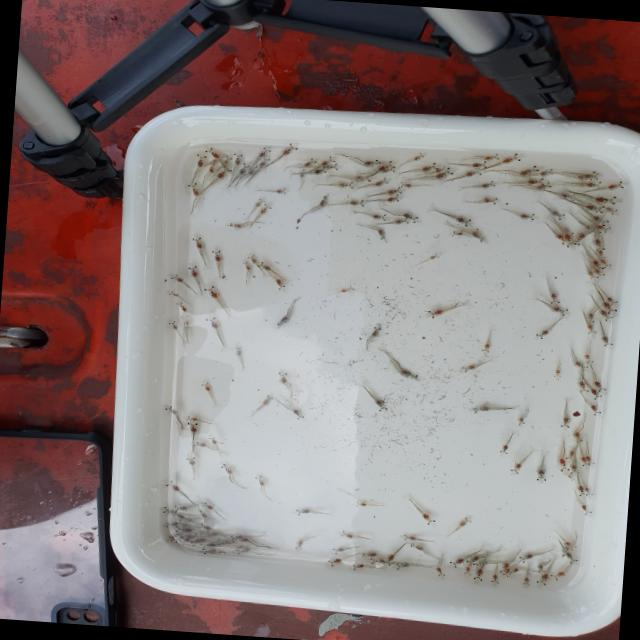babyshrimp: (398, 367, 419, 381), (590, 195, 618, 205), (162, 480, 183, 493), (433, 167, 454, 180), (451, 214, 472, 227), (589, 214, 610, 227), (571, 231, 588, 247), (203, 285, 221, 300), (214, 165, 232, 180), (516, 166, 539, 177), (582, 202, 605, 213), (375, 160, 396, 172), (579, 180, 604, 190), (280, 143, 299, 156), (533, 328, 552, 341), (550, 303, 569, 316), (501, 153, 522, 164), (422, 308, 445, 318), (517, 552, 536, 564), (187, 182, 202, 197), (563, 550, 579, 564), (205, 316, 221, 330), (471, 229, 487, 243), (600, 301, 617, 314), (448, 556, 466, 568), (203, 147, 221, 159), (534, 572, 549, 586), (549, 289, 563, 304), (550, 570, 569, 581), (374, 398, 390, 411), (420, 512, 436, 525), (256, 146, 272, 159), (548, 209, 566, 220), (580, 502, 594, 516), (258, 202, 273, 215), (510, 461, 523, 476), (402, 211, 418, 223), (536, 465, 546, 484), (455, 364, 476, 373), (408, 541, 425, 552), (320, 155, 337, 166), (382, 553, 396, 566), (186, 265, 199, 279), (195, 153, 208, 167), (589, 386, 602, 400), (276, 314, 291, 326), (367, 212, 387, 221), (558, 457, 570, 472), (553, 233, 568, 245), (606, 180, 624, 190), (470, 405, 492, 413), (499, 441, 510, 457), (572, 357, 588, 368), (463, 168, 482, 177), (533, 181, 552, 190), (472, 568, 485, 581), (192, 236, 205, 249), (237, 162, 250, 175), (576, 483, 589, 496), (589, 402, 602, 415), (219, 462, 233, 474), (198, 542, 219, 550), (261, 394, 275, 406), (211, 249, 223, 263), (257, 157, 271, 169), (327, 557, 342, 568), (569, 460, 580, 475), (598, 309, 613, 320), (174, 525, 194, 533), (339, 529, 355, 539), (334, 181, 354, 189), (386, 186, 402, 196), (254, 473, 266, 486), (186, 421, 199, 433), (273, 278, 286, 290), (563, 540, 577, 551), (458, 516, 472, 527), (252, 197, 266, 208), (233, 152, 244, 166), (598, 258, 612, 269), (421, 162, 438, 171), (386, 194, 403, 203), (481, 196, 498, 205), (225, 221, 244, 229), (362, 159, 381, 167), (164, 405, 179, 415), (302, 157, 317, 167), (351, 175, 372, 182), (578, 172, 599, 179), (294, 508, 312, 516), (393, 561, 409, 570), (170, 274, 186, 283), (585, 323, 597, 335), (479, 180, 495, 189), (482, 153, 500, 161), (526, 177, 544, 185), (557, 193, 575, 201), (596, 224, 612, 233), (176, 301, 189, 312), (371, 324, 382, 337), (600, 335, 613, 346), (201, 500, 215, 510), (481, 341, 491, 355), (560, 414, 570, 428), (592, 268, 606, 278), (191, 439, 208, 447), (518, 212, 535, 220), (470, 161, 487, 169), (257, 261, 272, 270), (312, 166, 327, 175), (374, 177, 389, 186), (293, 409, 305, 420), (278, 371, 289, 383), (221, 155, 233, 166), (573, 431, 584, 443), (584, 454, 595, 466), (199, 382, 212, 392), (167, 320, 180, 330), (580, 454, 590, 467), (172, 511, 186, 520), (167, 533, 181, 542), (346, 199, 364, 206), (604, 206, 618, 215), (208, 163, 219, 174), (583, 353, 594, 364), (246, 254, 258, 264), (585, 485, 595, 497), (592, 259, 604, 269), (412, 152, 425, 161), (164, 521, 180, 528), (331, 546, 345, 554), (540, 168, 554, 176), (185, 456, 196, 466), (435, 566, 445, 577), (247, 166, 258, 176), (376, 228, 385, 240), (402, 534, 417, 541), (369, 557, 384, 564), (324, 163, 339, 170), (162, 506, 175, 514), (433, 165, 446, 173), (605, 297, 618, 305), (361, 551, 378, 557), (197, 508, 207, 518), (490, 574, 500, 584), (560, 547, 570, 557), (242, 261, 252, 271), (295, 539, 304, 550), (319, 196, 328, 207), (586, 312, 595, 323), (198, 523, 212, 530), (185, 414, 199, 421), (207, 436, 219, 444), (393, 218, 409, 224), (354, 500, 367, 507), (351, 563, 364, 570), (174, 505, 189, 511), (229, 535, 244, 541), (522, 576, 531, 586), (537, 563, 546, 573), (501, 568, 511, 577), (234, 346, 243, 356), (587, 269, 596, 279), (167, 290, 179, 297), (274, 187, 286, 194), (399, 181, 413, 187), (463, 566, 471, 576), (428, 253, 439, 260), (565, 453, 574, 461), (518, 416, 525, 426), (451, 231, 464, 236), (554, 369, 562, 377), (340, 288, 351, 292)
